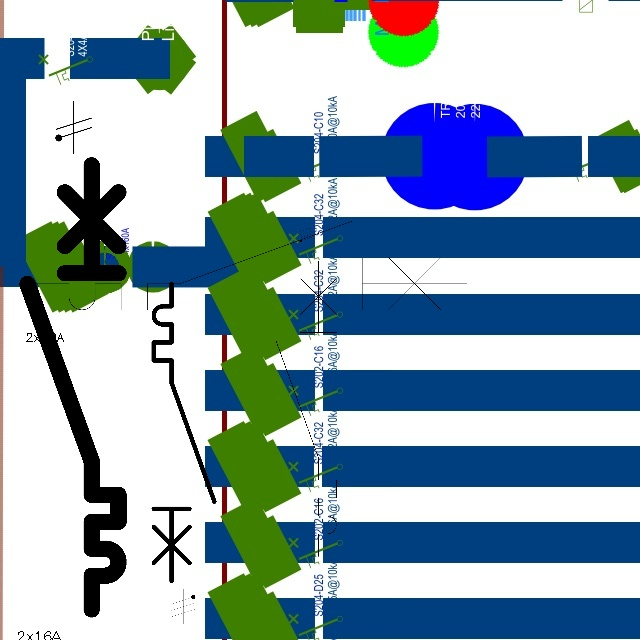interruptor_termomagnetico: (16, 153, 130, 620), (25, 210, 478, 321), (146, 276, 222, 589), (268, 253, 344, 564)
